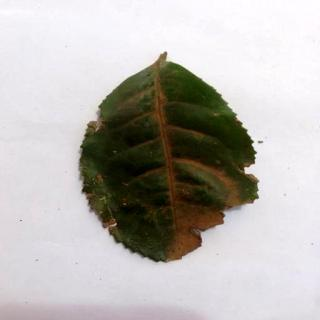Algal Leaf: (80, 52, 262, 263)
